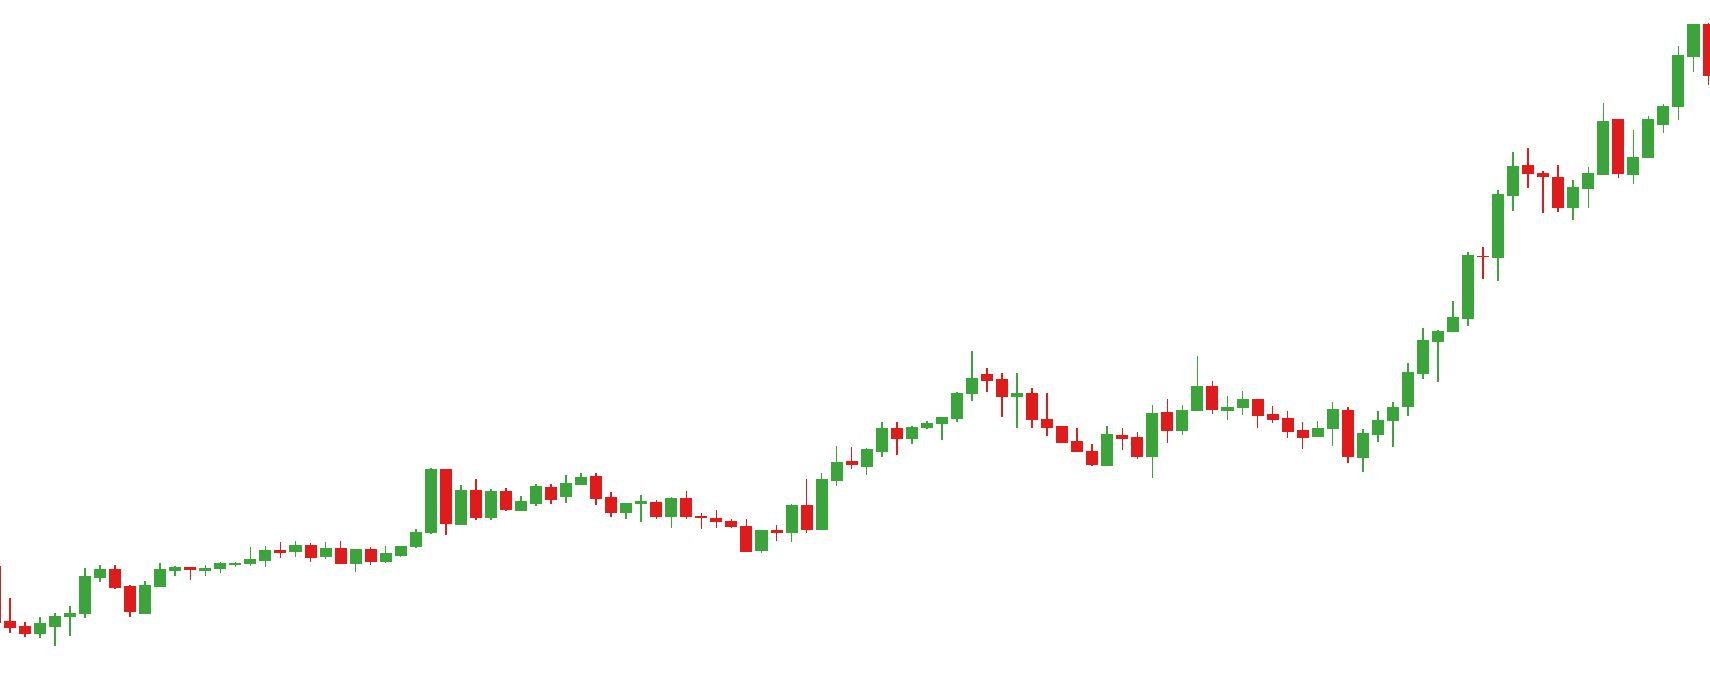buy: (1294, 421, 1373, 479)
